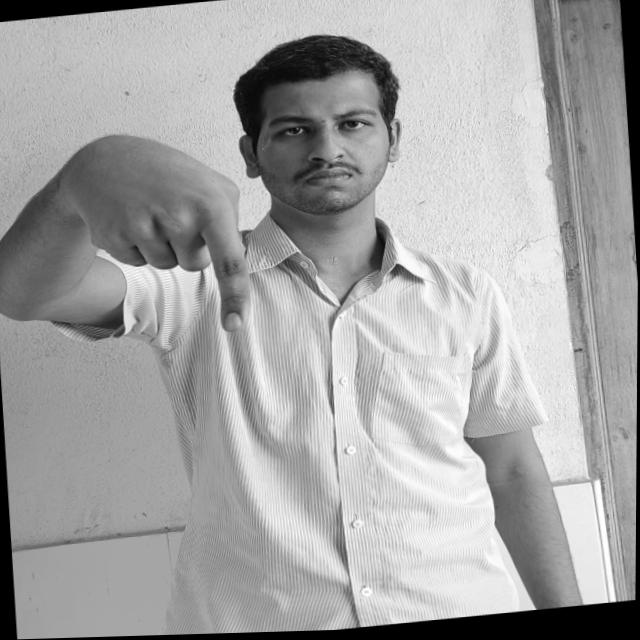Now: (60, 140, 259, 348)
